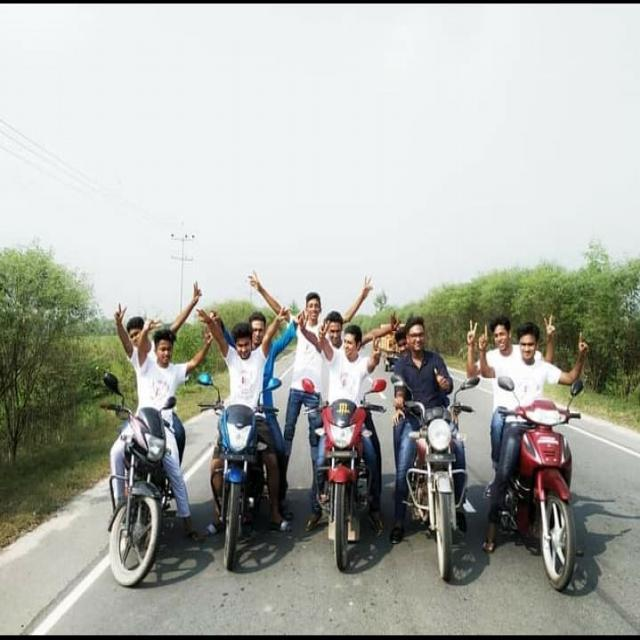No helmet: (150, 328, 180, 365), (230, 320, 256, 362), (516, 322, 543, 362), (405, 316, 429, 356), (341, 324, 364, 360)
